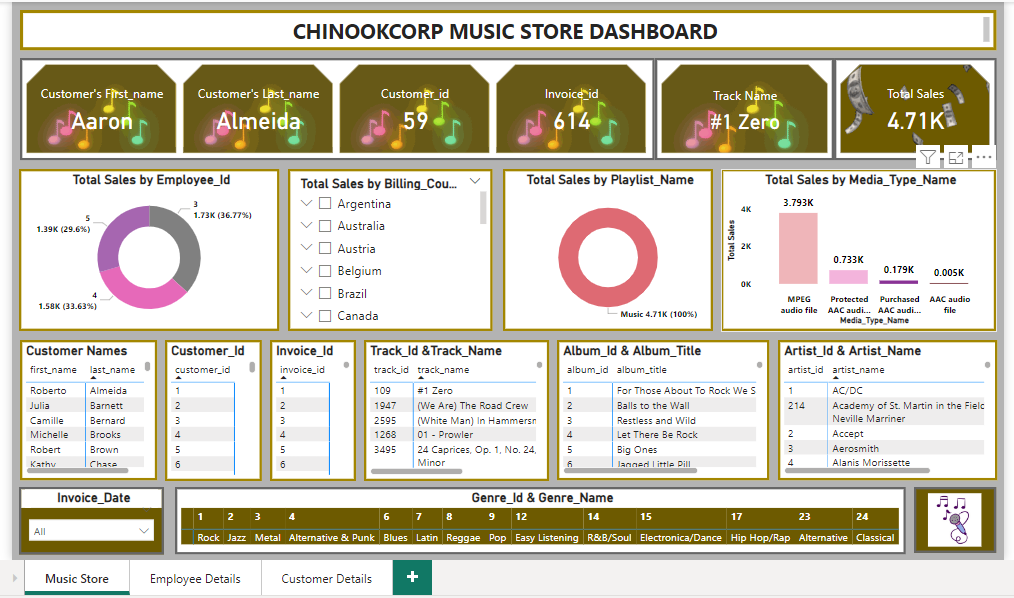

What the dashboard file says about the page in this screenshot:
{"tool":"powerbi","page":{"name":"Music Store","canvas":[1280,720],"ordinal":0},"visuals":[{"type":"textbox","box":[9.9,9.9,1260,52.4],"z":0},{"type":"cardVisual","fields":{"Data":["Min(Merge customers to playlist,album,artist,media_type,genre.first_name)","Min(Merge customers to playlist,album,artist,media_type,genre.last_name)","Count(Merge customers to playlist,album,artist,media_type,genre.customer_id)","CountNonNull(Merge customers to playlist,album,artist,media_type,genre.invoice_id)"]},"box":[9.9,72.3,819.2,131.8],"z":1000},{"type":"cardVisual","fields":{"Data":["Sum(Merge customers to playlist,album,artist,media_type,genre.total)"]},"box":[1060.2,72.3,209.8,131.8],"z":2000},{"type":"cardVisual","fields":{"Data":["Min(Merge customers to playlist,album,artist,media_type,genre.name)"]},"box":[829.1,72.3,231,131.8],"z":3000},{"type":"pivotTable","title":"Genre_Id & Genre_Name","fields":{"Values":["Min(Merge customers to playlist,album,artist,media_type,genre.genre_name)"],"Columns":["Merge customers to playlist,album,artist,media_type,genre.genre_id"]},"box":[210.6,626.2,942.8,86.7],"z":4000},{"type":"donutChart","fields":{"Category":["Merge customers to playlist,album,artist,media_type,genre.support_rep_id"],"Y":["Sum(Merge customers to playlist,album,artist,media_type,genre.total)"]},"box":[9.6,216.1,335.8,209.2],"z":5000},{"type":"slicer","title":"Invoice_Date","fields":{"Values":["Merge customers to playlist,album,artist,media_type,genre.invoice_date"]},"box":[9.6,626.2,187.2,86.7],"z":6000},{"type":"slicer","fields":{"Values":["Merge customers to playlist,album,artist,media_type,genre.billing_country","Merge customers to playlist,album,artist,media_type,genre.total"]},"box":[356.5,216.1,264.3,209.2],"z":7000},{"type":"donutChart","fields":{"Y":["Sum(Merge customers to playlist,album,artist,media_type,genre.total)"],"Category":["Merge customers to playlist,album,artist,media_type,genre.playlist_name"]},"box":[633.1,216.1,271.1,209.2],"z":8000},{"type":"pivotTable","title":"Album_Id & Album_Title","fields":{"Rows":["Merge customers to playlist,album,artist,media_type,genre.album_id"],"Values":["Min(Merge customers to playlist,album,artist,media_type,genre.album_title)"]},"box":[703,436.5,273.5,181.4],"z":9000},{"type":"pivotTable","title":"Artist_Id & Artist_Name","fields":{"Rows":["Merge customers to playlist,album,artist,media_type,genre.artist_id"],"Values":["Min(Merge customers to playlist,album,artist,media_type,genre.artist_name)"]},"box":[987.9,436.5,283.5,181.4],"z":10000},{"type":"pivotTable","title":"Track_Id &Track_Name","fields":{"Rows":["Merge customers to playlist,album,artist,media_type,genre.track_id"],"Values":["Min(Merge customers to playlist,album,artist,media_type,genre.name)"]},"box":[454.2,436.3,239.5,181.7],"z":11000},{"type":"pivotTable","title":"Customer Names","fields":{"Rows":["Merge customers to playlist,album,artist,media_type,genre.first_name"],"Values":["Min(Merge customers to playlist,album,artist,media_type,genre.last_name)"]},"box":[9.9,436.5,177.2,181.4],"z":12000},{"type":"pivotTable","title":"Invoice_Id","fields":{"Rows":["Merge customers to playlist,album,artist,media_type,genre.invoice_id"]},"box":[333.1,436.3,111.5,181.7],"z":13000},{"type":"pivotTable","title":"Customer_Id","fields":{"Rows":["Merge customers to playlist,album,artist,media_type,genre.customer_id"]},"box":[196.8,436.3,125.2,181.7],"z":14000},{"type":"clusteredColumnChart","fields":{"Y":["Sum(Merge customers to playlist,album,artist,media_type,genre.total)"],"Category":["Merge customers to playlist,album,artist,media_type,genre.media_type_name"]},"box":[915.3,216.1,355.1,209.2],"z":15000},{"type":"image","box":[1164.4,626.2,106,85.3],"z":16000}]}

Visuals, with their boxes in screenshot pixels (x1, y1, x2, y2):
textbox: bbox=[16, 8, 1000, 49]
cardVisual - Min(Merge customers to playlist,album,artist,media_type,genre.first_name) x Min(Merge customers to playlist,album,artist,media_type,genre.last_name): bbox=[16, 56, 656, 159]
cardVisual - Sum(Merge customers to playlist,album,artist,media_type,genre.total): bbox=[836, 56, 1000, 159]
cardVisual - Min(Merge customers to playlist,album,artist,media_type,genre.name): bbox=[656, 56, 836, 159]
"Genre_Id & Genre_Name" pivotTable: bbox=[172, 489, 909, 557]
donutChart - Merge customers to playlist,album,artist,media_type,genre.support_rep_id x Sum(Merge customers to playlist,album,artist,media_type,genre.total): bbox=[15, 169, 278, 332]
"Invoice_Date" slicer: bbox=[15, 489, 162, 557]
slicer - Merge customers to playlist,album,artist,media_type,genre.billing_country x Merge customers to playlist,album,artist,media_type,genre.total: bbox=[286, 169, 493, 332]
donutChart - Sum(Merge customers to playlist,album,artist,media_type,genre.total) x Merge customers to playlist,album,artist,media_type,genre.playlist_name: bbox=[503, 169, 714, 332]
"Album_Id & Album_Title" pivotTable: bbox=[557, 341, 771, 483]
"Artist_Id & Artist_Name" pivotTable: bbox=[780, 341, 1001, 483]
"Track_Id &Track_Name" pivotTable: bbox=[363, 341, 550, 483]
"Customer Names" pivotTable: bbox=[16, 341, 154, 483]
"Invoice_Id" pivotTable: bbox=[268, 341, 355, 483]
"Customer_Id" pivotTable: bbox=[162, 341, 259, 483]
clusteredColumnChart - Sum(Merge customers to playlist,album,artist,media_type,genre.total) x Merge customers to playlist,album,artist,media_type,genre.media_type_name: bbox=[723, 169, 1000, 332]
image: bbox=[918, 489, 1000, 556]
